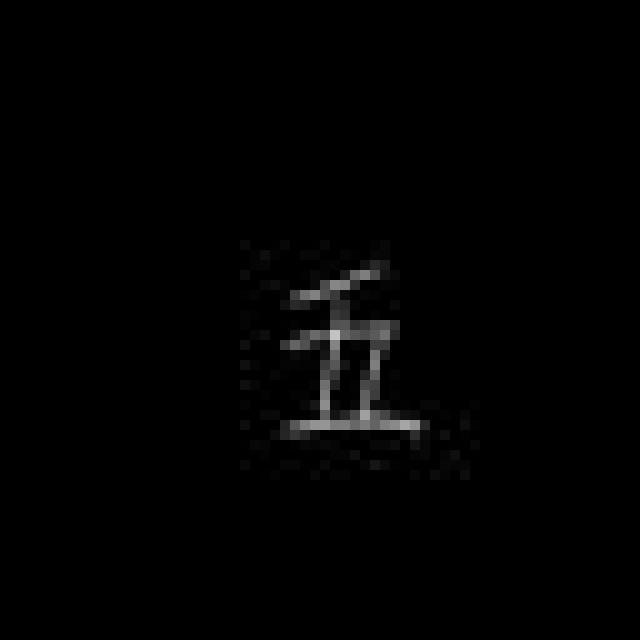5 -five-: (279, 255, 423, 441)
